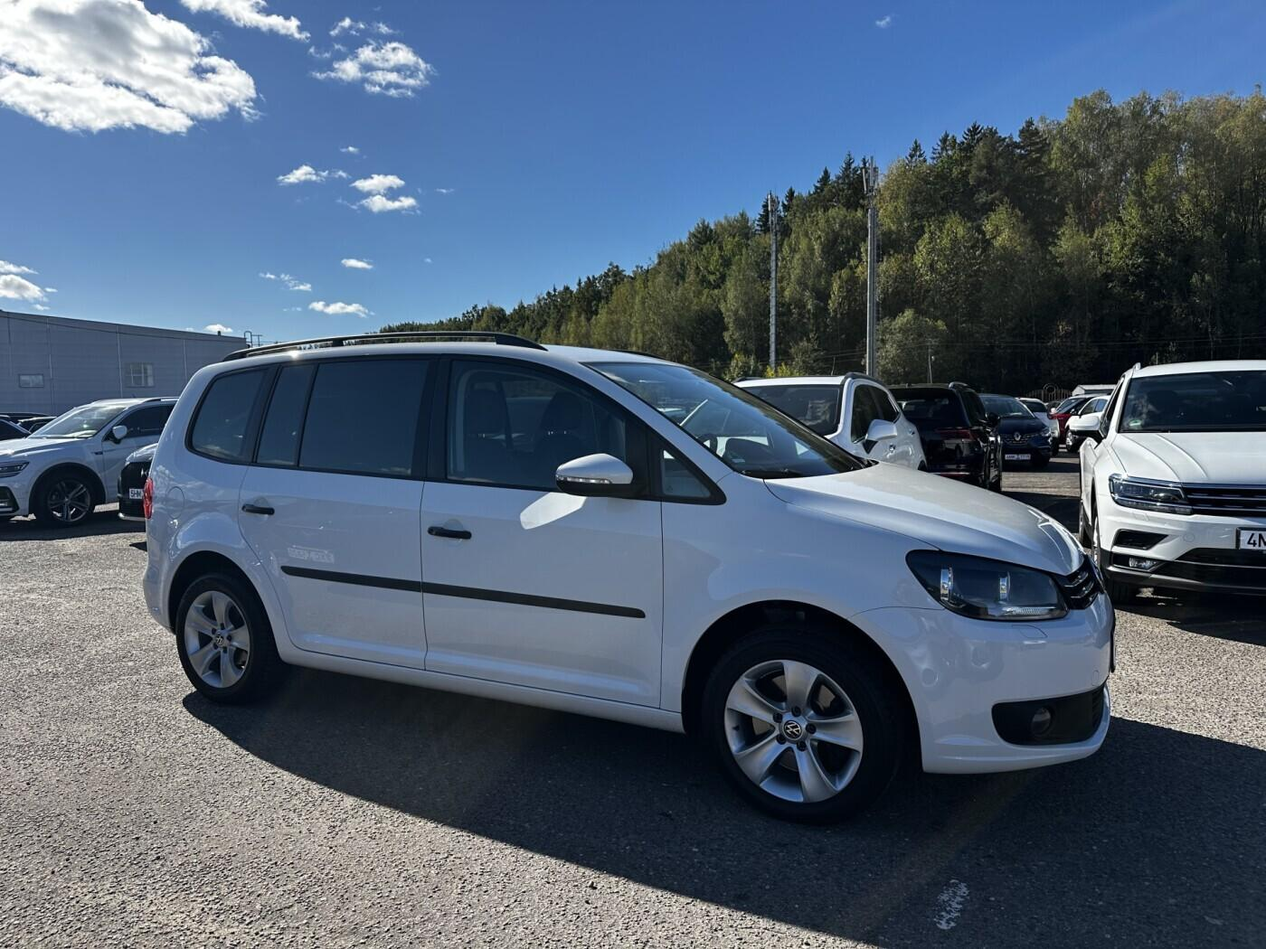Touran_2010-2015: (138, 336, 1123, 817)
